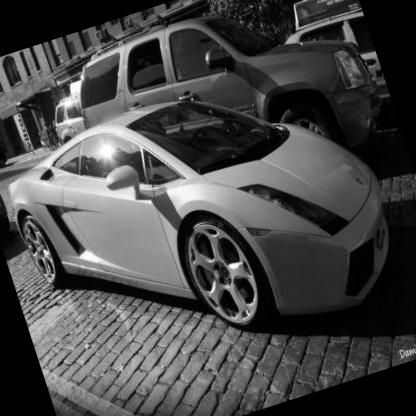car: (1, 32, 416, 416), (54, 1, 397, 232)
